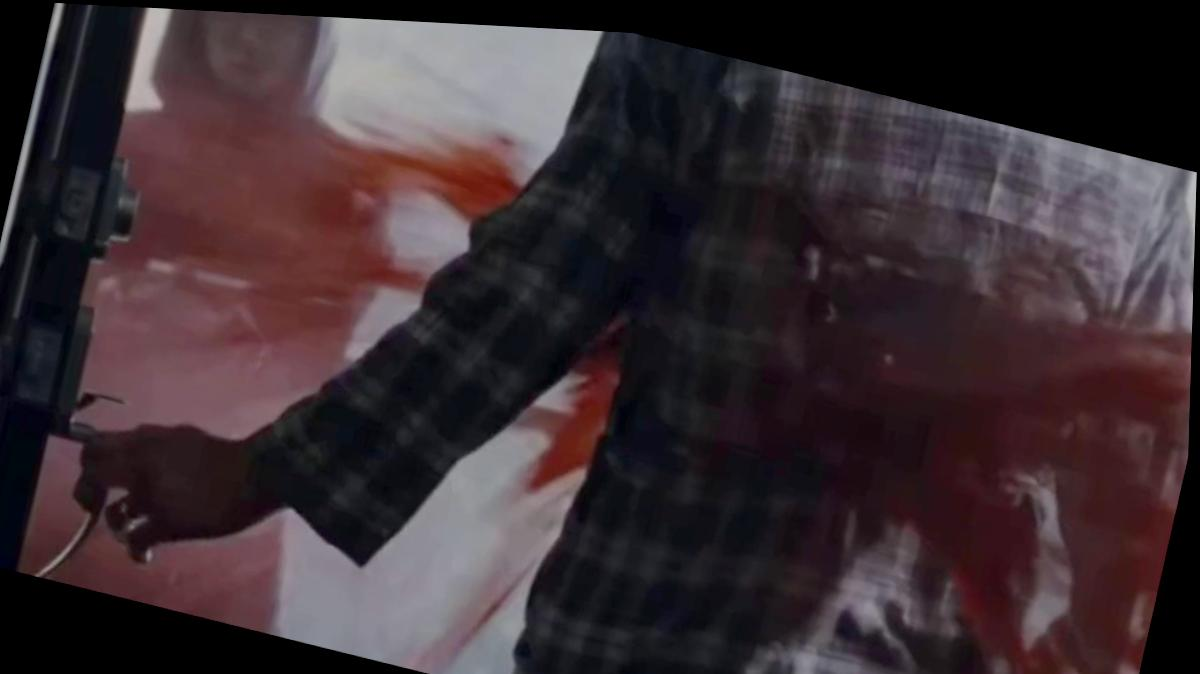Fire: (699, 184, 1194, 674), (47, 302, 644, 672), (82, 15, 570, 435), (13, 434, 96, 578)
